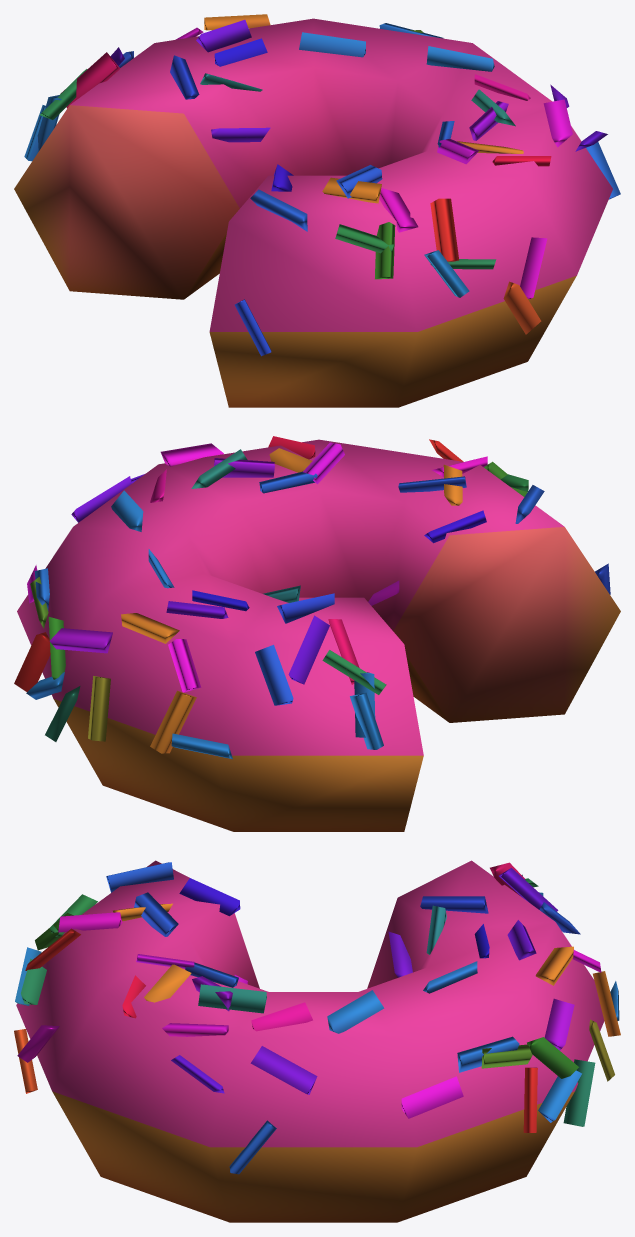
The model's file is SprinklesDonut_Bitten.fbx.
3 renders of one model, top to bottom at view 1: azimuth 30°, elevation 25°; view 2: azimuth 150°, elevation 25°; view 3: azimuth 270°, elevation 25°, orthographic.
Parts seen in each view (by area): view 1: SprinklesDonut_Bitten; view 2: SprinklesDonut_Bitten; view 3: SprinklesDonut_Bitten.
Part boxes in pixels (left/top/right/bottom): SprinklesDonut_Bitten: left=14, top=14, right=620, bottom=407; SprinklesDonut_Bitten: left=14, top=436, right=620, bottom=831; SprinklesDonut_Bitten: left=14, top=860, right=620, bottom=1222.
Size of the model in its own units: 32.32 by 14.06 by 36.62.
